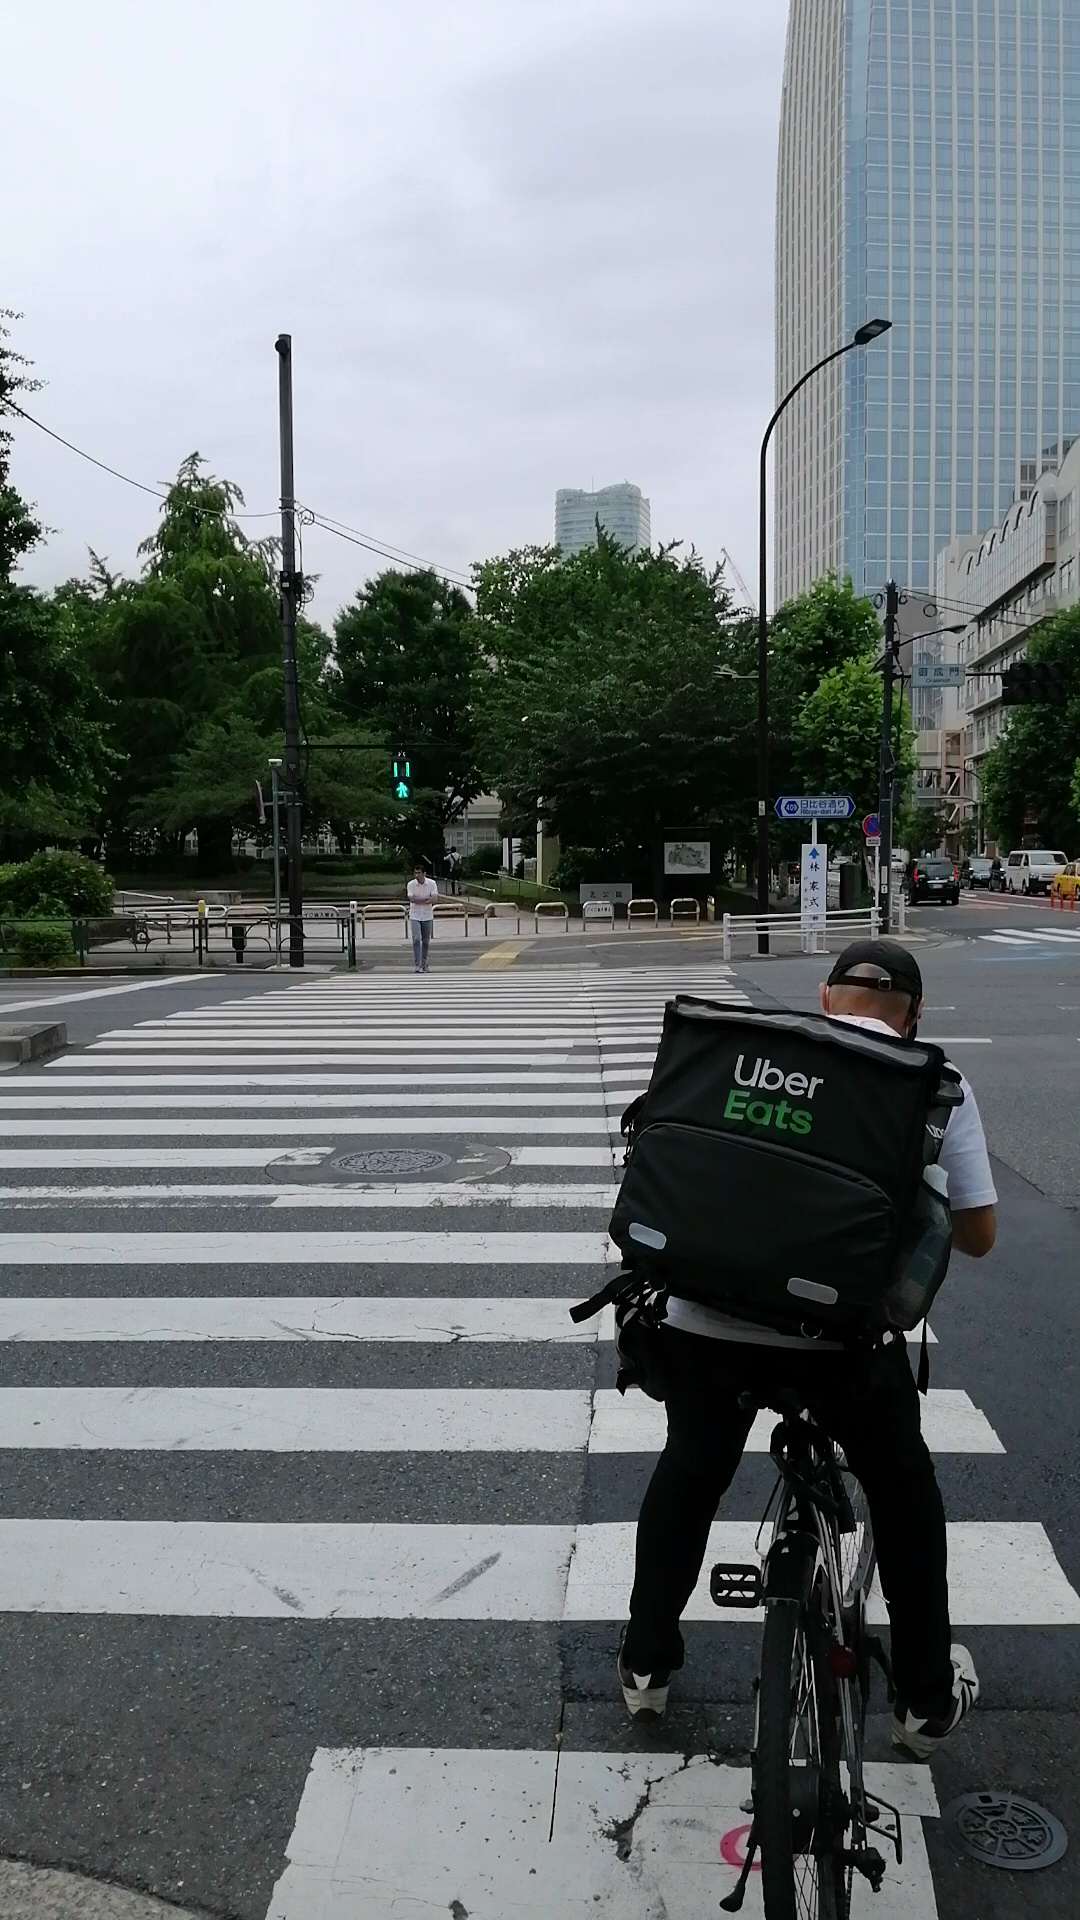green: (386, 754, 414, 802)
